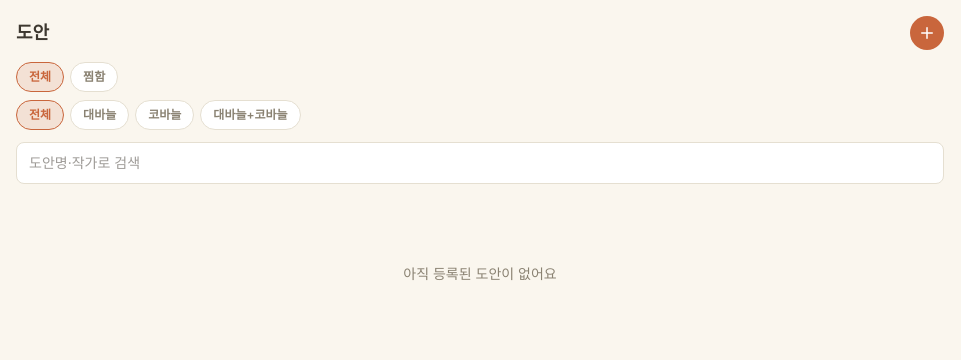
Test: PatternListPage › Ravelry 검색이 안 되면 내 DB 결과와 함께 안내를 띄운다
Step 1. Type "스웨터" into the field with placeholder "도안명·작가로 검색" → (480, 163), box 16,142 -> 944,184
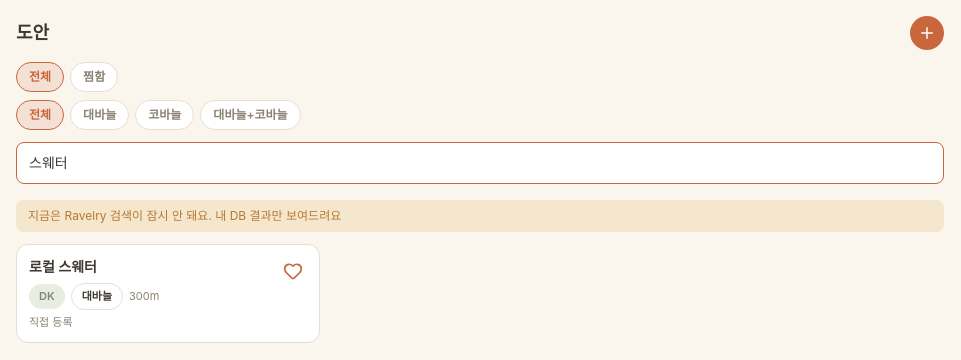
Result: the text "지금은 Ravelry 검색이 잠시 안 돼요. 내 DB 결과만 보여드려요" is shown at 16,200 -> 944,232
Result: the text "로컬 스웨터" is shown at 29,258 -> 97,275
